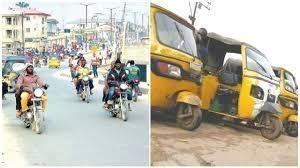keke: (206, 27, 286, 140), (154, 2, 204, 134)
